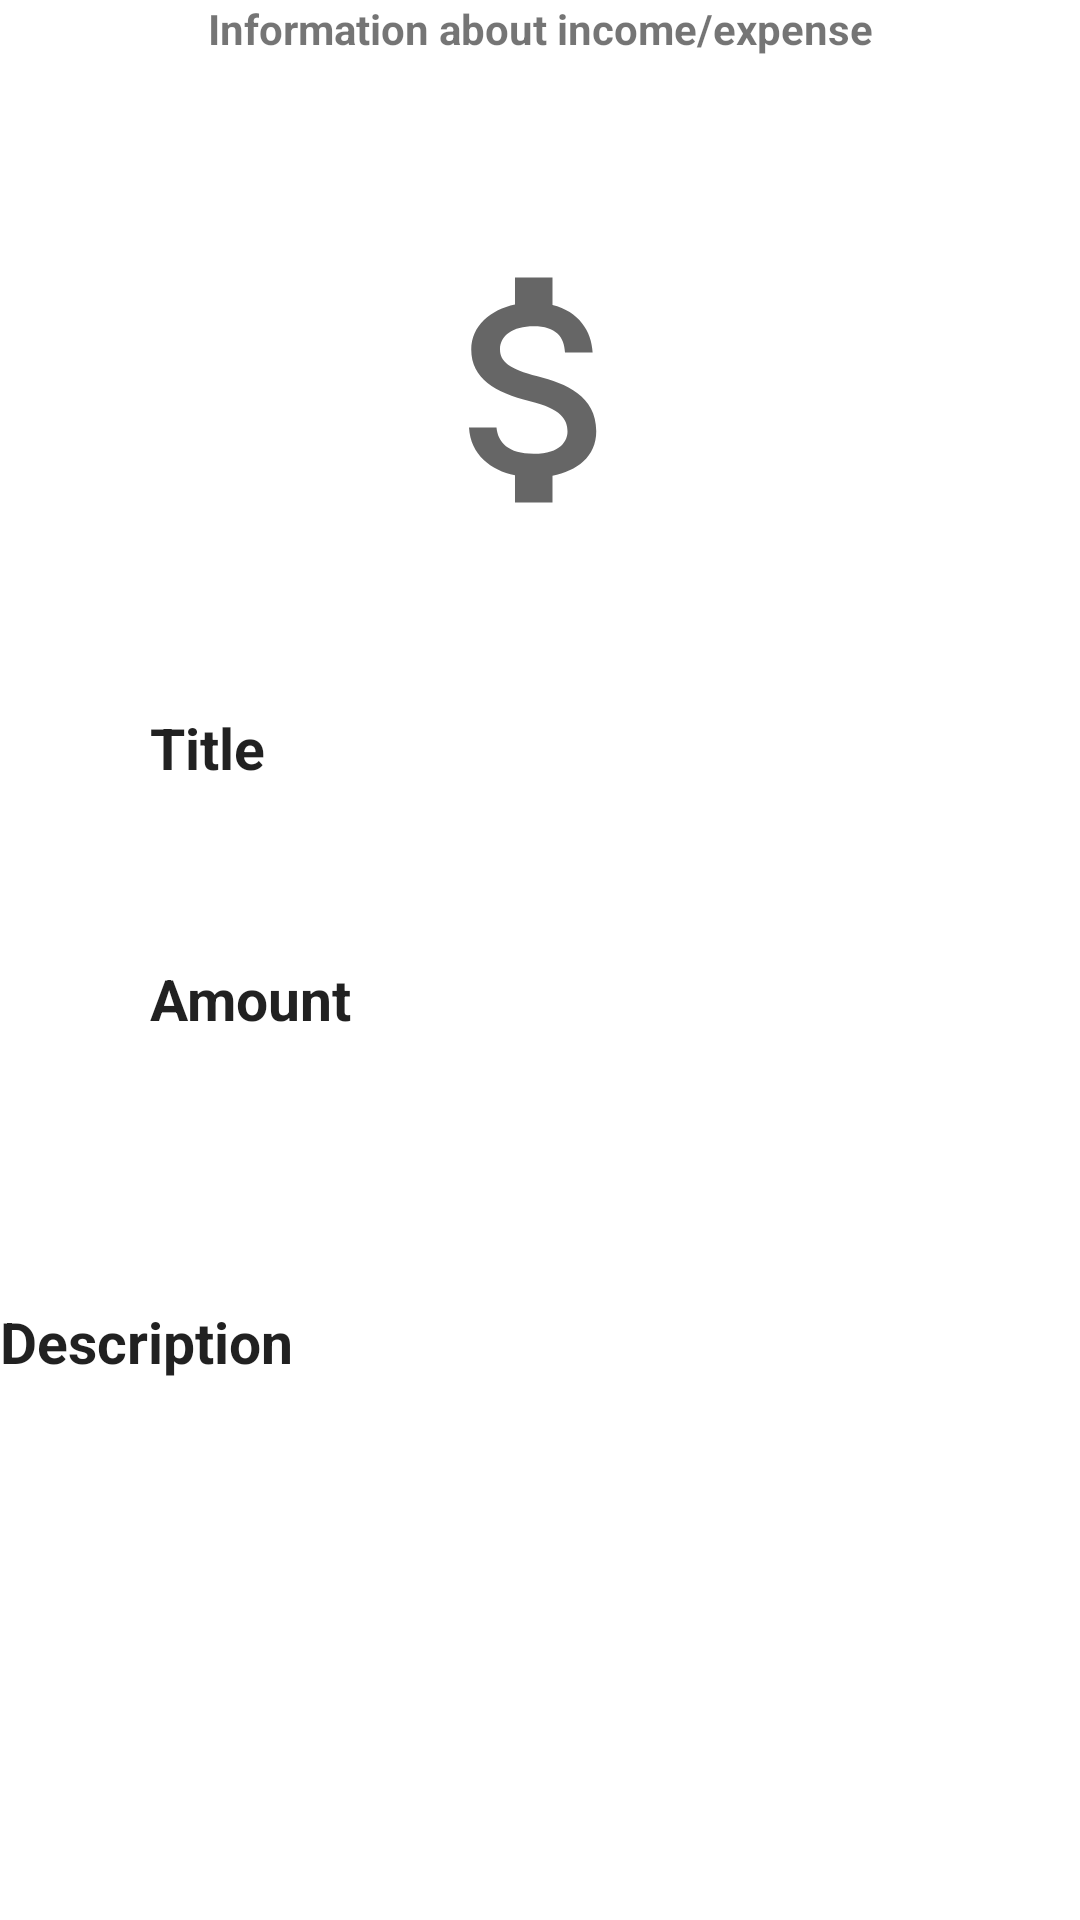

Icons on this 1080×1920 Android screen, each with the point to tap as [x,y]:
moneyicon: [533,390]
